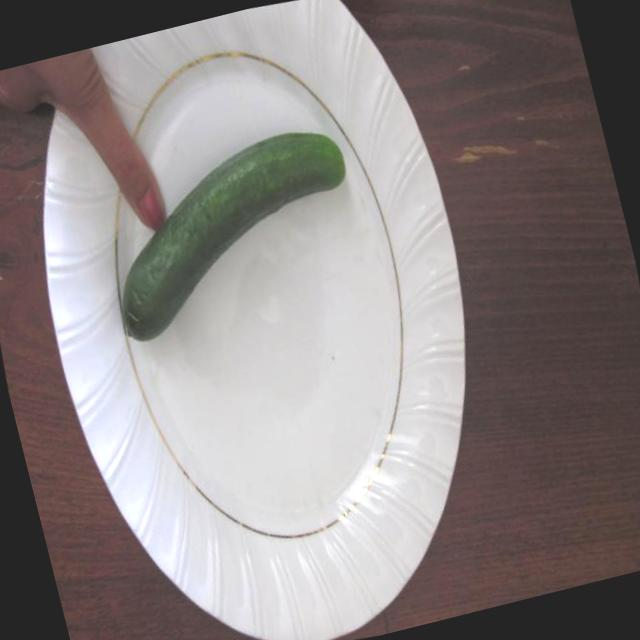Cucumber: (77, 107, 387, 372)
Finger: (86, 103, 178, 246)
